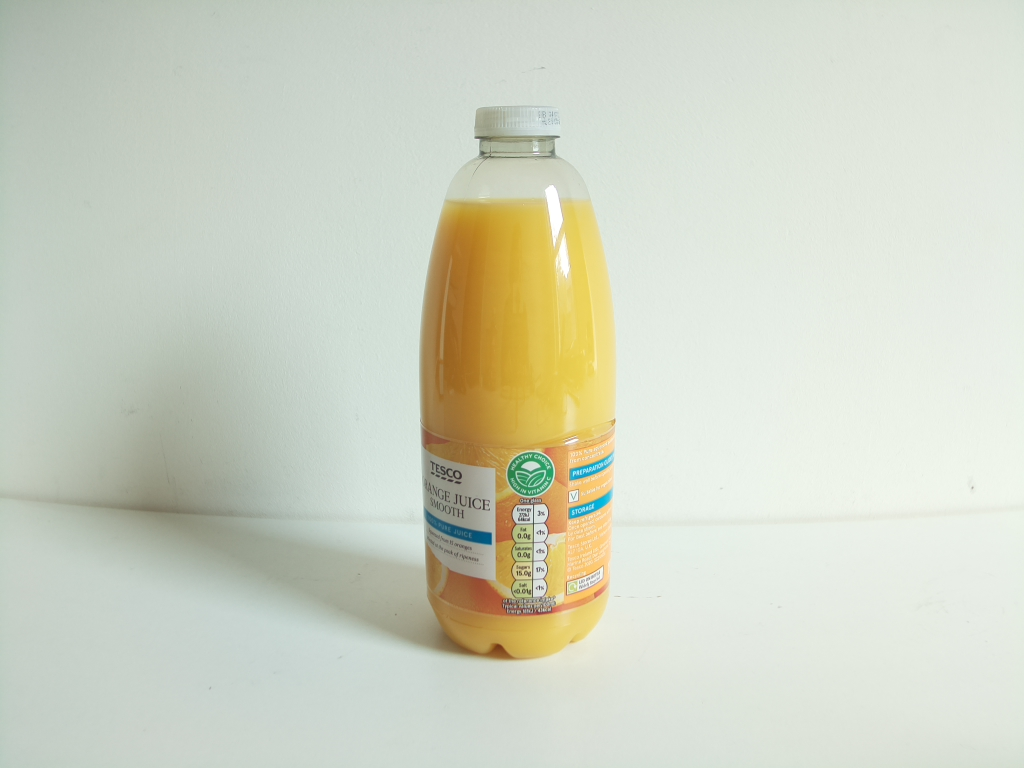juice: (417, 94, 612, 668)
